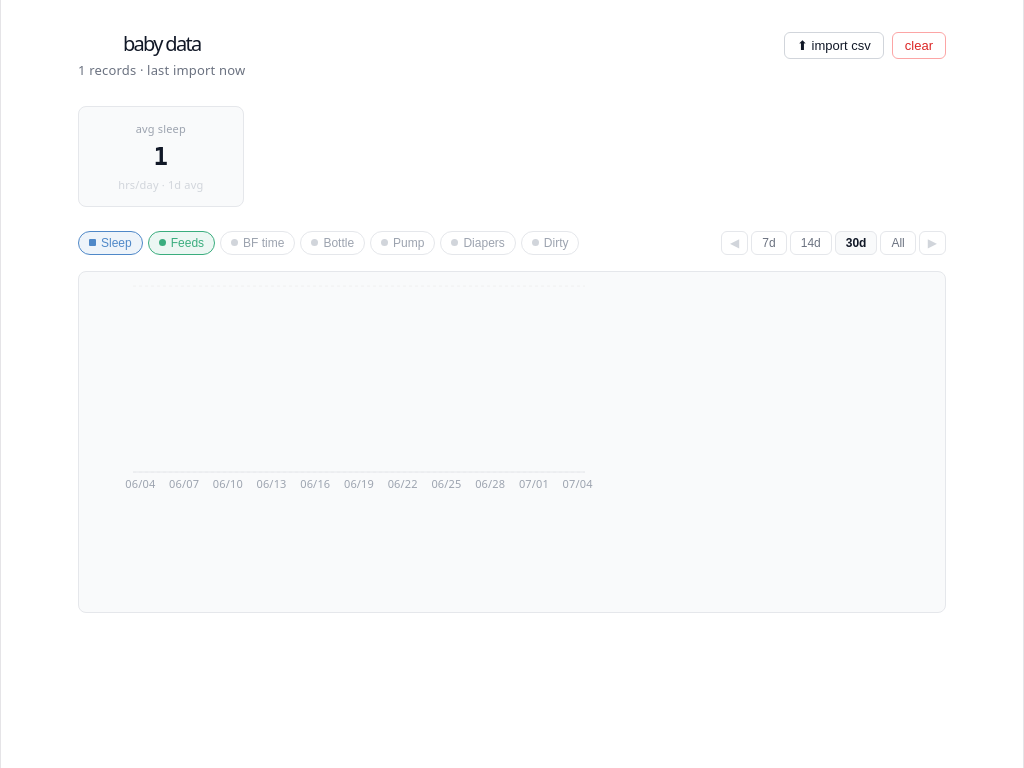
Test: NaraAnalytics clearData › clears records and removes localStorage after confirm
Click the button "clear" at (919, 46), box [892,32,946,59]
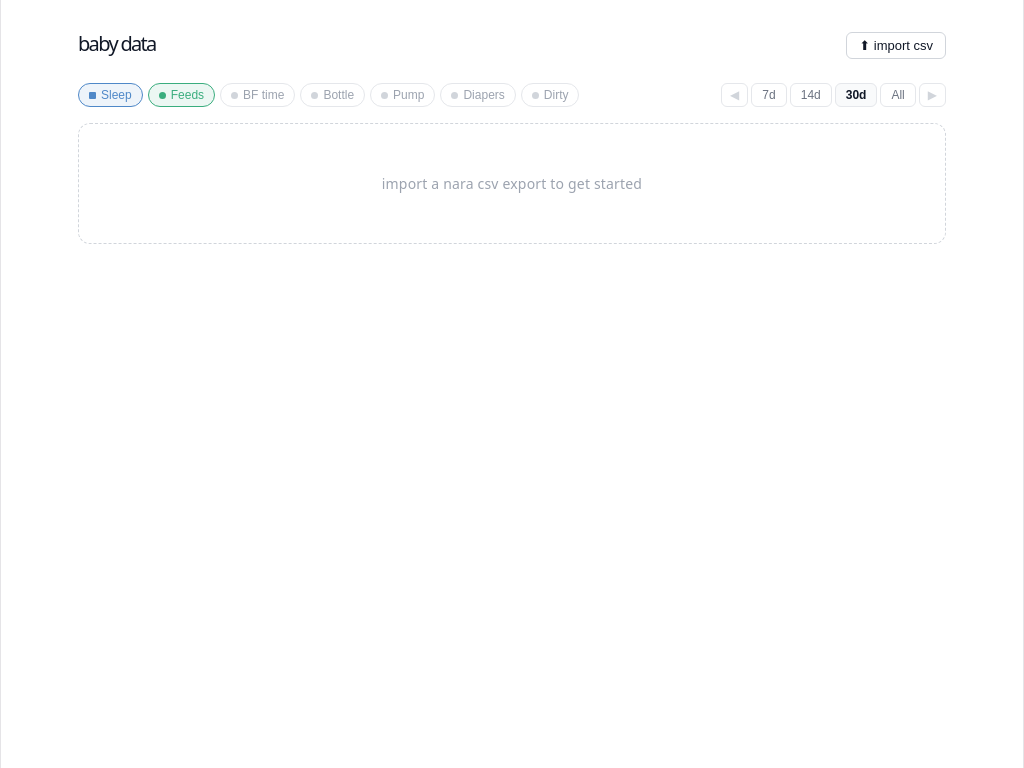
Result: the text "import a nara csv export to get started" is shown at [78,123,946,244]
